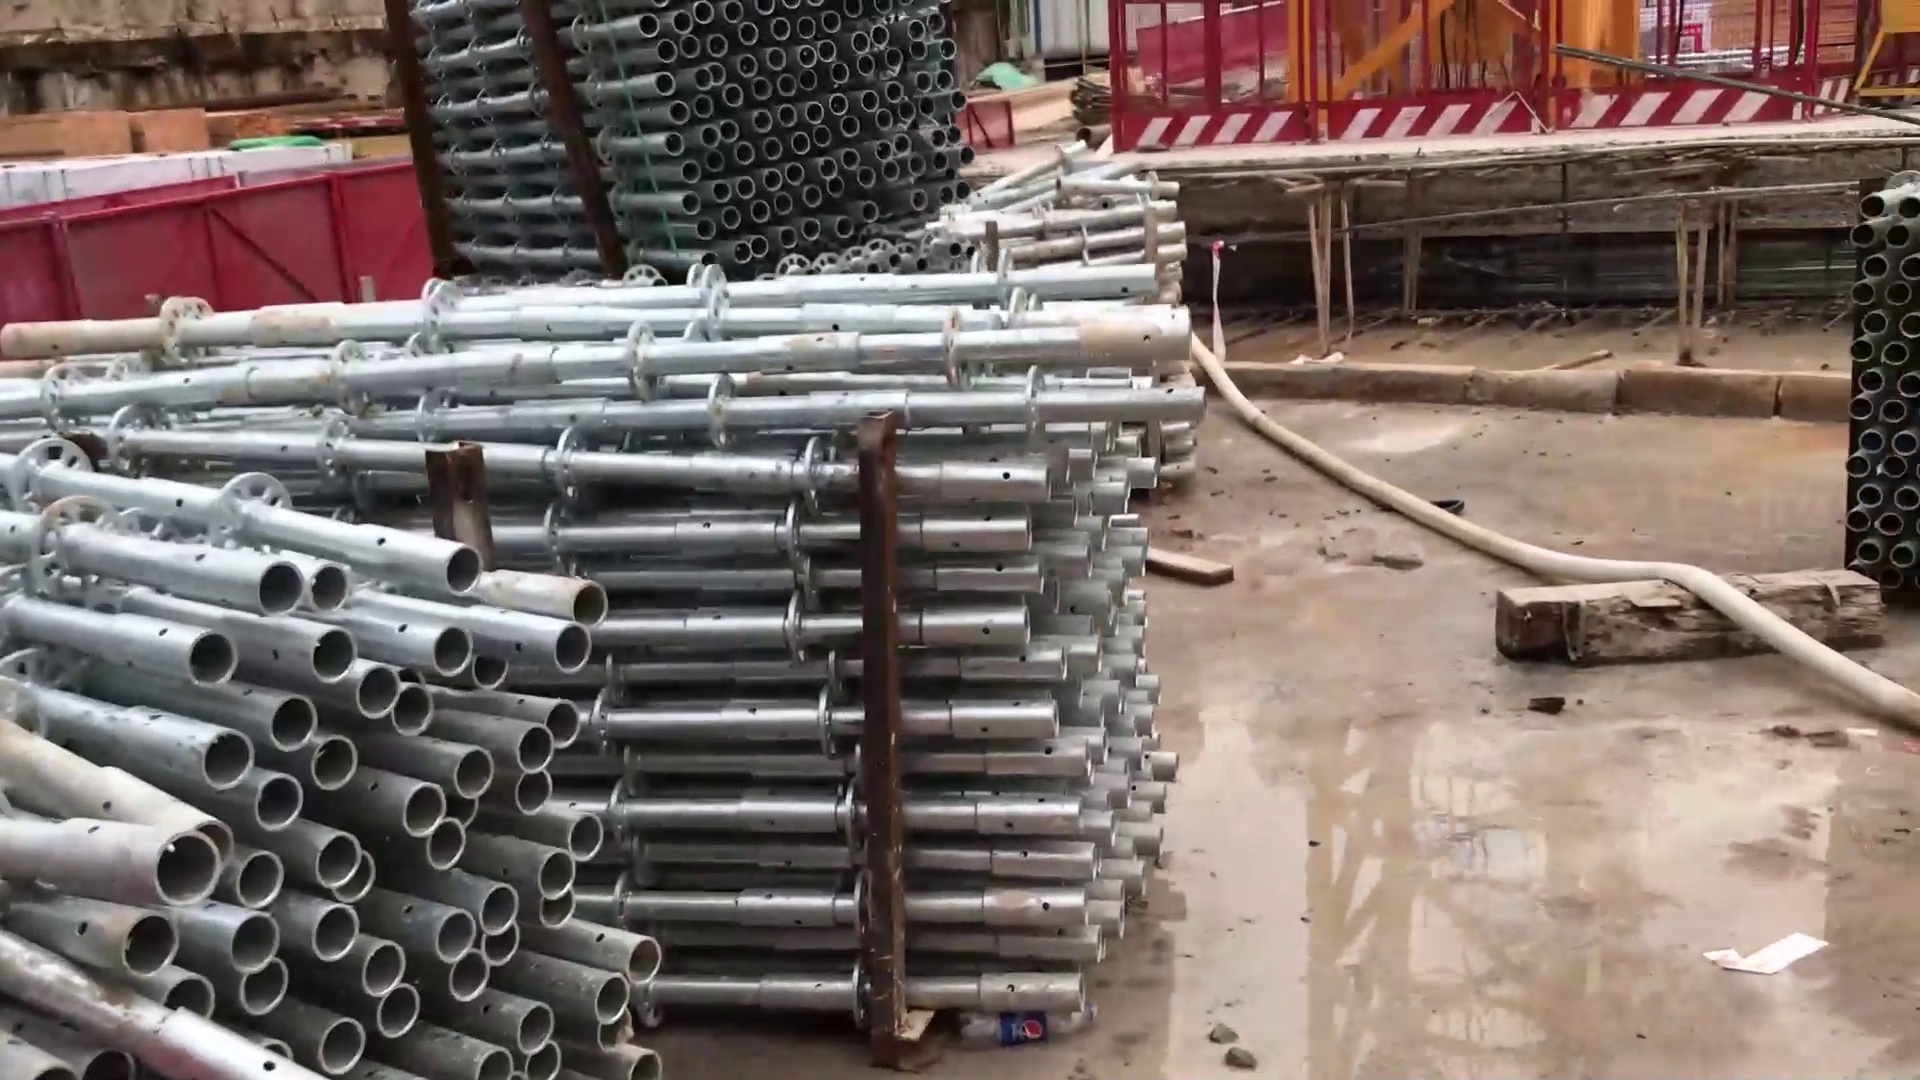fence: (1102, 1, 1826, 157)
scaffold: (633, 264, 1191, 1046), (1, 452, 679, 1080), (430, 1, 982, 281)
wood: (1, 102, 287, 165)
